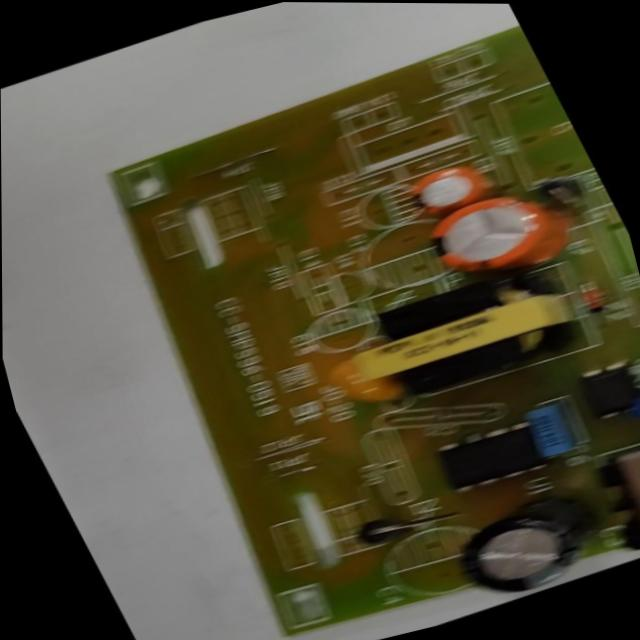Cap1: (417, 175, 588, 296)
Cap2: (403, 154, 499, 224)
Cap3: (441, 484, 618, 609)
MOSFET: (428, 415, 555, 503)
Mov: (632, 377, 640, 433)
Transformer: (341, 251, 593, 411), (576, 430, 640, 567)
